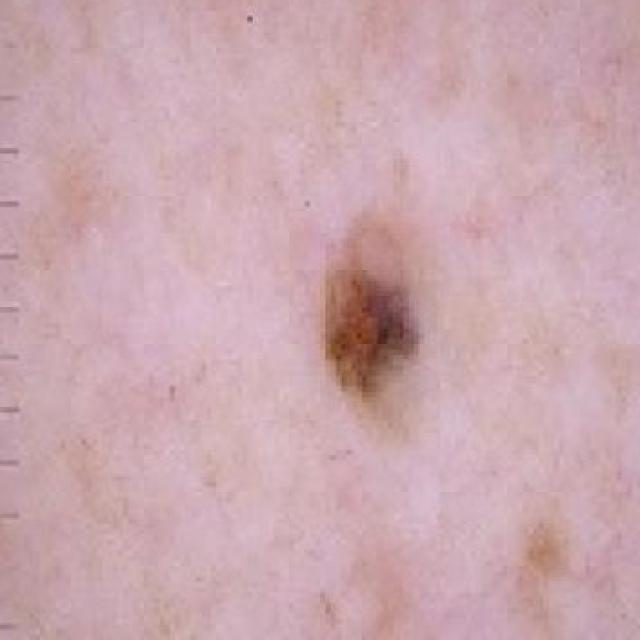BKL: (256, 150, 468, 483)
